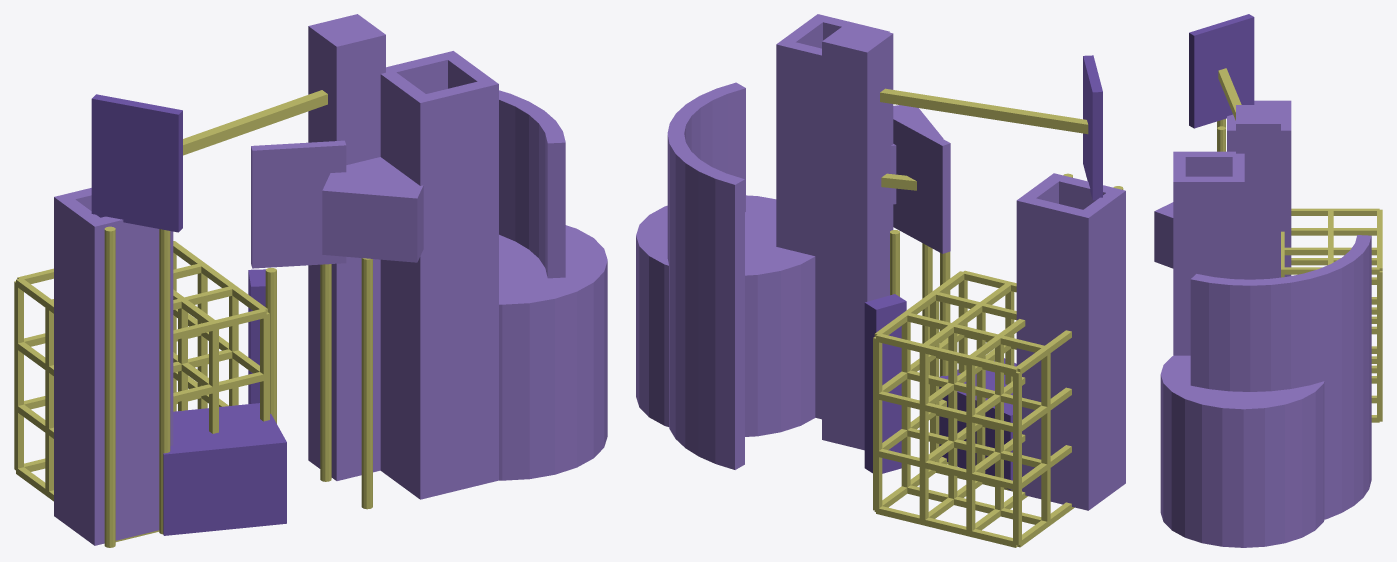
Rendered from folie_tag_094.glb.
The picture shows the model from 3 angles, left to right: view 1: azimuth 30°, elevation 25°; view 2: azimuth 150°, elevation 25°; view 3: azimuth 270°, elevation 25°; orthographic projection. The views are drawn at different scales.
Parts seen in each view (by area): view 1: folie_tag_094_03_tower, folie_tag_094_04_tower, folie_tag_094_01_drum, folie_tag_094_core, folie_tag_094_line, folie_tag_094_00_cage, folie_tag_094_05_block, folie_tag_094_06_panel, folie_tag_094_02_curve, folie_tag_094_08_panel, folie_tag_094_09_block, folie_tag_094_07_fin; view 2: folie_tag_094_00_cage, folie_tag_094_04_tower, folie_tag_094_02_curve, folie_tag_094_core, folie_tag_094_01_drum, folie_tag_094_03_tower, folie_tag_094_08_panel, folie_tag_094_line, folie_tag_094_07_fin, folie_tag_094_06_panel, folie_tag_094_05_block, folie_tag_094_09_block; view 3: folie_tag_094_02_curve, folie_tag_094_01_drum, folie_tag_094_03_tower, folie_tag_094_core, folie_tag_094_06_panel, folie_tag_094_00_cage, folie_tag_094_04_tower, folie_tag_094_09_block, folie_tag_094_line.
Boxes of the visible parts, x1=… form: folie_tag_094_03_tower: x1=380, y1=51, x2=498, y2=499; folie_tag_094_04_tower: x1=54, y1=188, x2=173, y2=545; folie_tag_094_01_drum: x1=499, y1=225, x2=607, y2=480; folie_tag_094_core: x1=308, y1=14, x2=385, y2=480; folie_tag_094_line: x1=104, y1=90, x2=372, y2=547; folie_tag_094_00_cage: x1=14, y1=241, x2=269, y2=541; folie_tag_094_05_block: x1=163, y1=403, x2=286, y2=535; folie_tag_094_06_panel: x1=91, y1=94, x2=182, y2=232; folie_tag_094_02_curve: x1=499, y1=90, x2=565, y2=278; folie_tag_094_08_panel: x1=251, y1=140, x2=346, y2=268; folie_tag_094_09_block: x1=322, y1=157, x2=423, y2=262; folie_tag_094_07_fin: x1=248, y1=269, x2=265, y2=403; folie_tag_094_00_cage: x1=873, y1=270, x2=1074, y2=547; folie_tag_094_04_tower: x1=1016, y1=173, x2=1125, y2=510; folie_tag_094_02_curve: x1=667, y1=82, x2=745, y2=469; folie_tag_094_core: x1=822, y1=22, x2=893, y2=450; folie_tag_094_01_drum: x1=636, y1=195, x2=815, y2=436; folie_tag_094_03_tower: x1=776, y1=14, x2=889, y2=419; folie_tag_094_08_panel: x1=893, y1=114, x2=950, y2=253; folie_tag_094_line: x1=880, y1=88, x2=1123, y2=396; folie_tag_094_07_fin: x1=864, y1=294, x2=906, y2=473; folie_tag_094_06_panel: x1=1083, y1=55, x2=1102, y2=200; folie_tag_094_05_block: x1=939, y1=358, x2=1016, y2=490; folie_tag_094_09_block: x1=890, y1=105, x2=943, y2=204; folie_tag_094_02_curve: x1=1190, y1=235, x2=1371, y2=519; folie_tag_094_01_drum: x1=1160, y1=355, x2=1324, y2=547; folie_tag_094_03_tower: x1=1173, y1=151, x2=1244, y2=355; folie_tag_094_core: x1=1236, y1=105, x2=1280, y2=279; folie_tag_094_06_panel: x1=1189, y1=14, x2=1254, y2=128; folie_tag_094_00_cage: x1=1281, y1=208, x2=1382, y2=422; folie_tag_094_04_tower: x1=1227, y1=100, x2=1291, y2=276; folie_tag_094_09_block: x1=1154, y1=202, x2=1173, y2=268; folie_tag_094_line: x1=1217, y1=68, x2=1241, y2=151.
Bounding box in the file's own units: 11.36 × 9.33 × 5.59.
